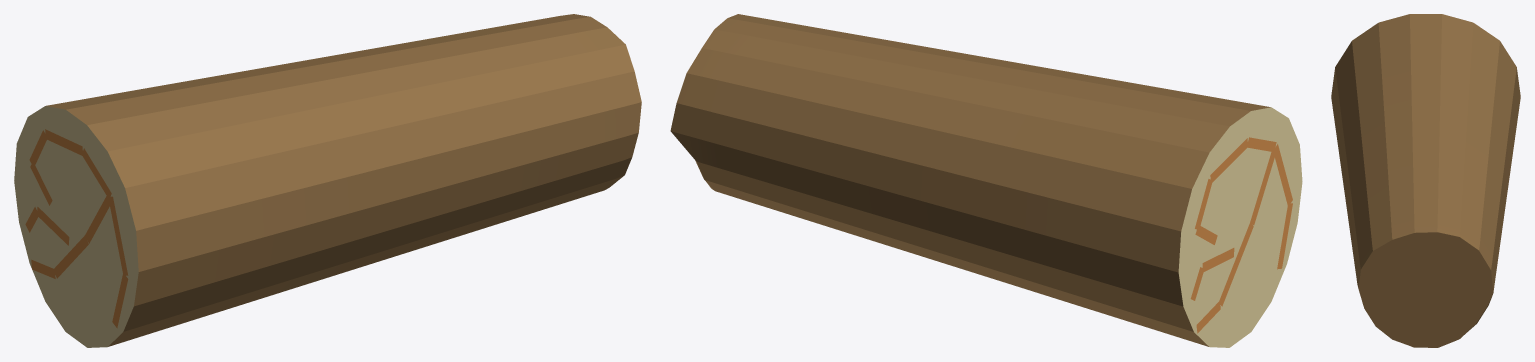
Rendered from Tronco.glb.
3 views of the same model, side by side, from view 1: azimuth 30°, elevation 25°; view 2: azimuth 150°, elevation 25°; view 3: azimuth 270°, elevation 25° (orthographic). The views are drawn at different scales.
Parts seen in each view (by area): view 1: Tronco_Principal, Simbolo_Trazo_0, Simbolo_Trazo_1, Simbolo_Trazo_2, Simbolo_Trazo_3; view 2: Tronco_Principal, Simbolo_Trazo_1, Simbolo_Trazo_0, Simbolo_Trazo_2, Simbolo_Trazo_3; view 3: Tronco_Principal.
Part boxes in pixels (box(x1,y1,x2,y2)): Tronco_Principal: box(14, 14, 641, 347); Simbolo_Trazo_0: box(82, 148, 128, 328); Simbolo_Trazo_1: box(31, 193, 112, 278); Simbolo_Trazo_2: box(29, 129, 83, 205); Simbolo_Trazo_3: box(25, 207, 69, 245); Tronco_Principal: box(670, 14, 1302, 347); Simbolo_Trazo_1: box(1196, 146, 1275, 333); Simbolo_Trazo_0: box(1246, 137, 1292, 269); Simbolo_Trazo_2: box(1195, 138, 1247, 244); Simbolo_Trazo_3: box(1190, 248, 1234, 300); Tronco_Principal: box(1331, 14, 1520, 347).
Size of the model in its own units: 1.4 by 0.5608 by 0.5695.
